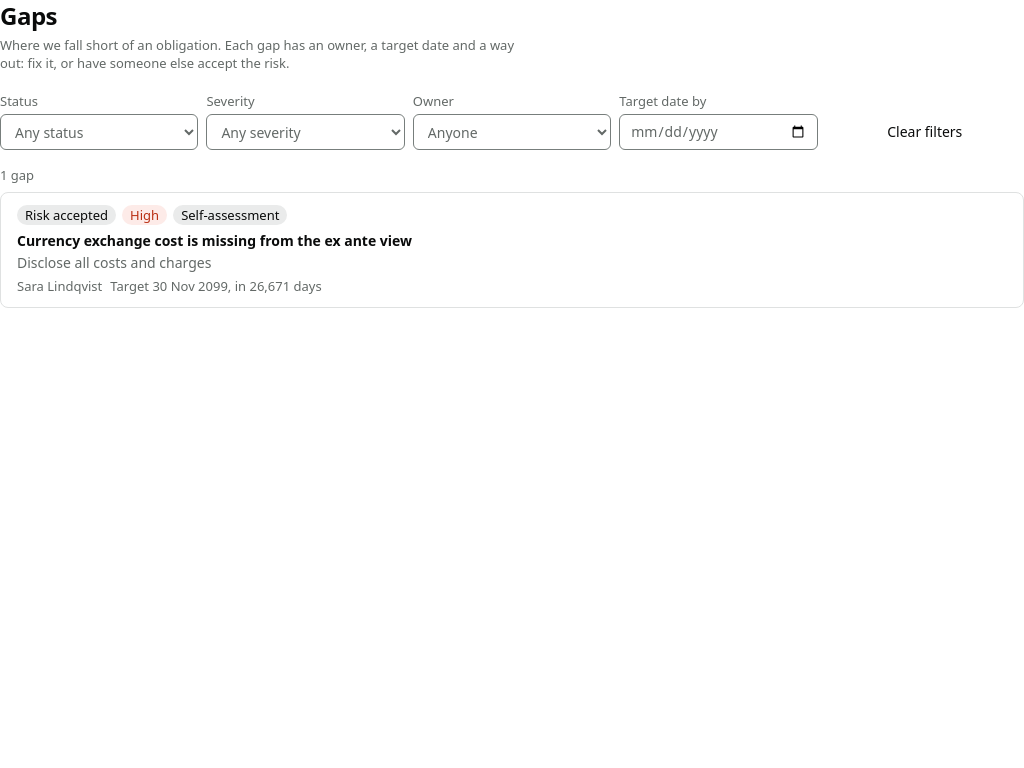
Test: the way out › reads Risk accepted in information with both names, and reopens it
What coordinates should you click on to do the following:
click the button "Currency exchange cost is missing from the ex ante view"
I would click on:
 (215, 241)
Its box is left=17, top=231, right=412, bottom=251.
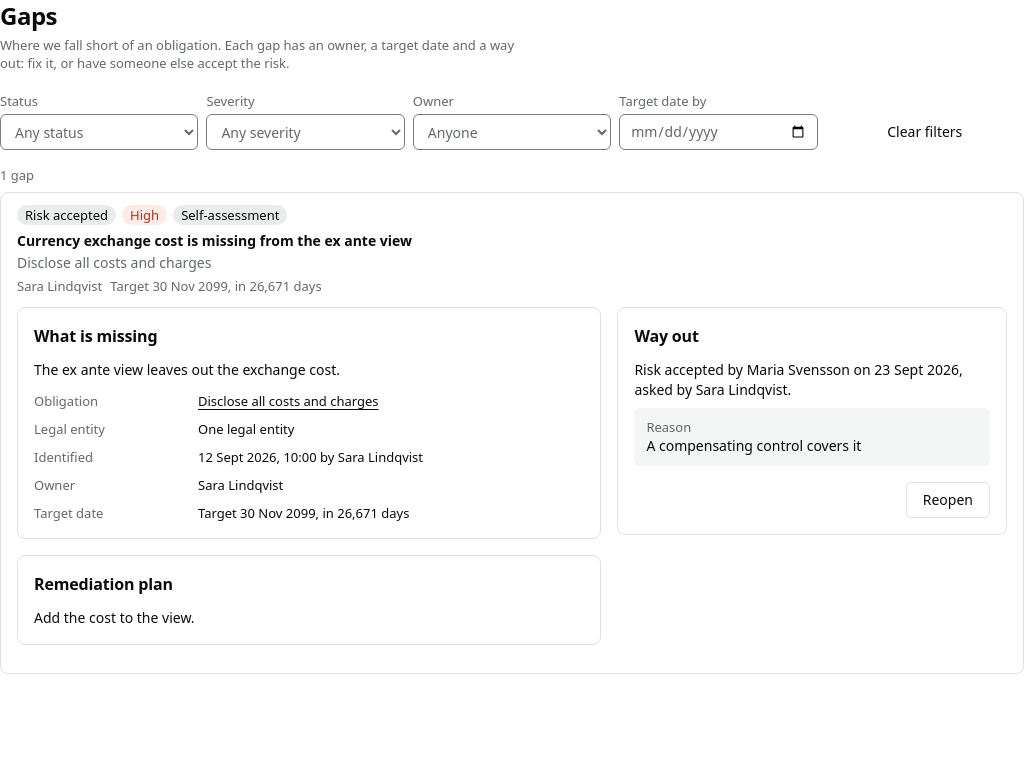
expect the text "Risk accepted" is shown: met, box left=17, top=205, right=116, bottom=225
expect the element that starts with "What is missing" is shown: met, box left=17, top=307, right=1007, bottom=661
What coordinates should you click on to do the following:
click the button "Reopen"
I would click on:
 (948, 500)
Its box is left=906, top=482, right=990, bottom=518.
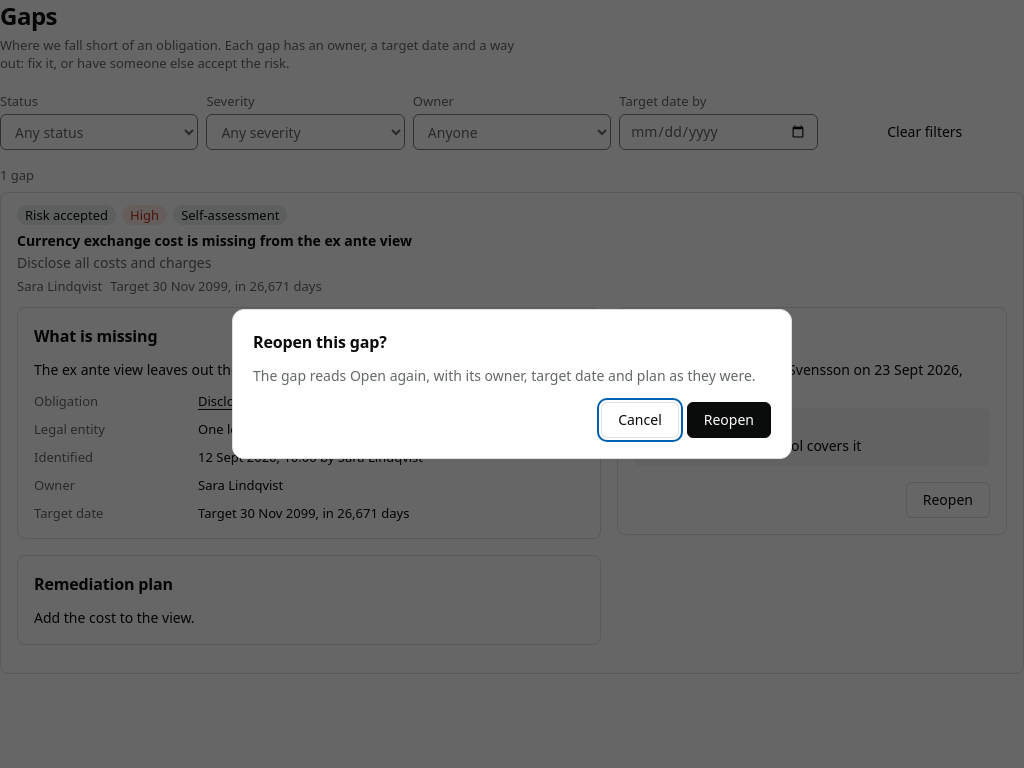
What coordinates should you click on to do the following:
click the button "Reopen"
I would click on:
 (729, 420)
Its box is left=687, top=402, right=771, bottom=438.
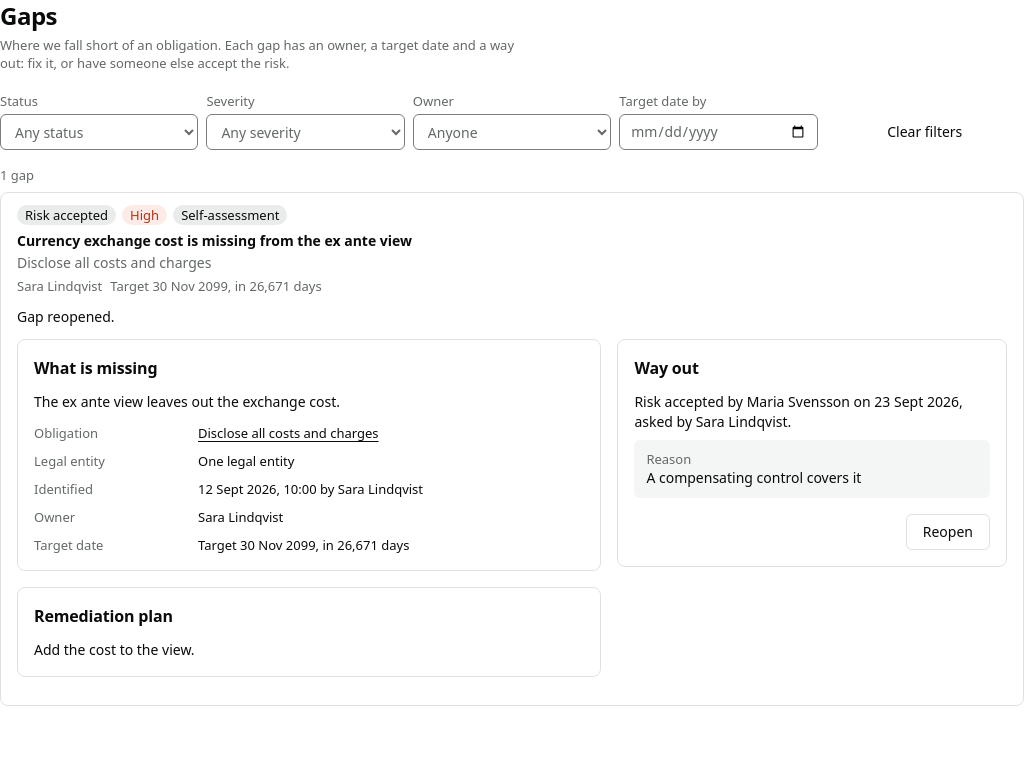
expect the text "Gap reopened." is shown: met, box left=17, top=307, right=115, bottom=326
